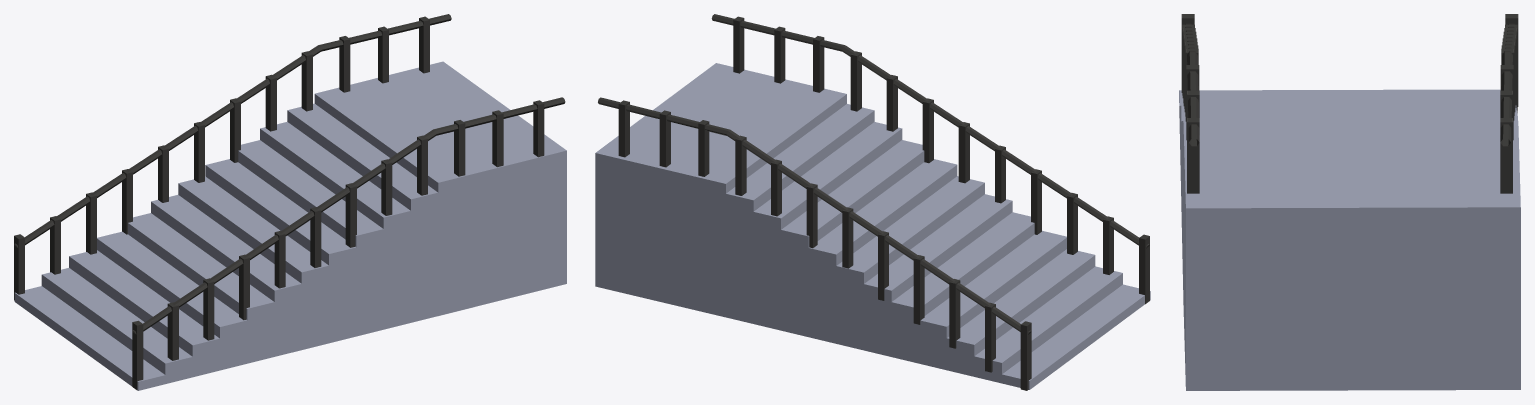
The model's file is putong_louti.fbx.
The picture shows the model from 3 angles, left to right: view 1: azimuth 30°, elevation 25°; view 2: azimuth 150°, elevation 25°; view 3: azimuth 270°, elevation 25°; orthographic projection. The views are drawn at different scales.
Parts seen in each view (by area): view 1: putong_louti; view 2: putong_louti; view 3: putong_louti.
Boxes of the visible parts, <box> form: putong_louti: <box>14,14,566,390</box>; putong_louti: <box>595,14,1150,390</box>; putong_louti: <box>1179,14,1520,390</box>.
Bounding box in the file's own units: 272 × 111 × 136.
